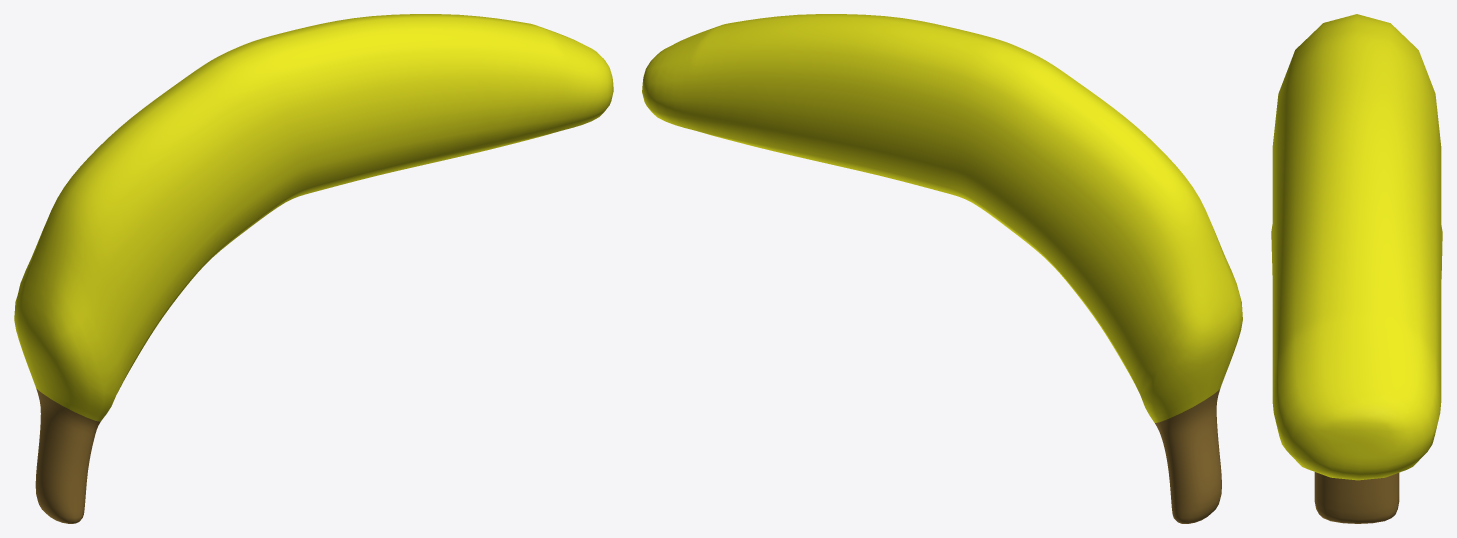
Rendered from banana_1787fb8e.glb.
The picture shows the model from 3 angles, left to right: view 1: azimuth 30°, elevation 25°; view 2: azimuth 150°, elevation 25°; view 3: azimuth 270°, elevation 25°; orthographic projection. The views are drawn at different scales.
Visible parts, largest first — view 1: pCube1; view 2: pCube1; view 3: pCube1.
Boxes of the visible parts, left/top/right/bottom form: pCube1: left=14, top=14, right=613, bottom=523; pCube1: left=642, top=14, right=1242, bottom=523; pCube1: left=1271, top=14, right=1442, bottom=523.
Size of the model in its own units: 12.25 by 8.67 by 2.13.
2 materials, 2 textured.
